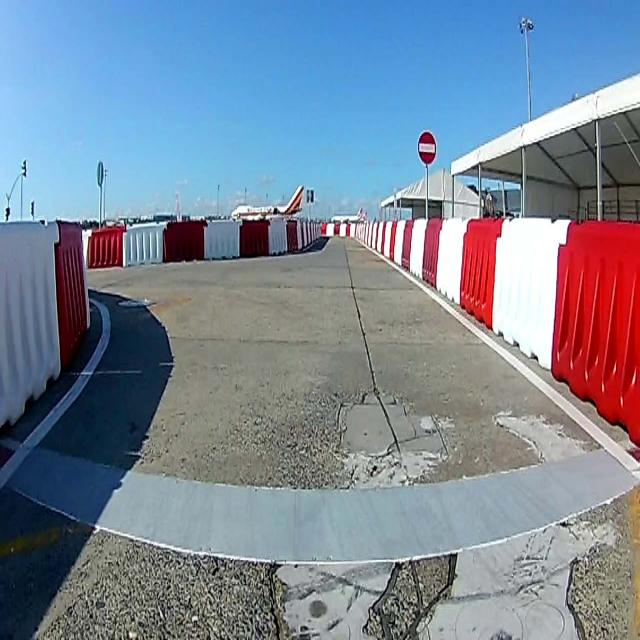girisyok: (417, 131, 438, 165)
